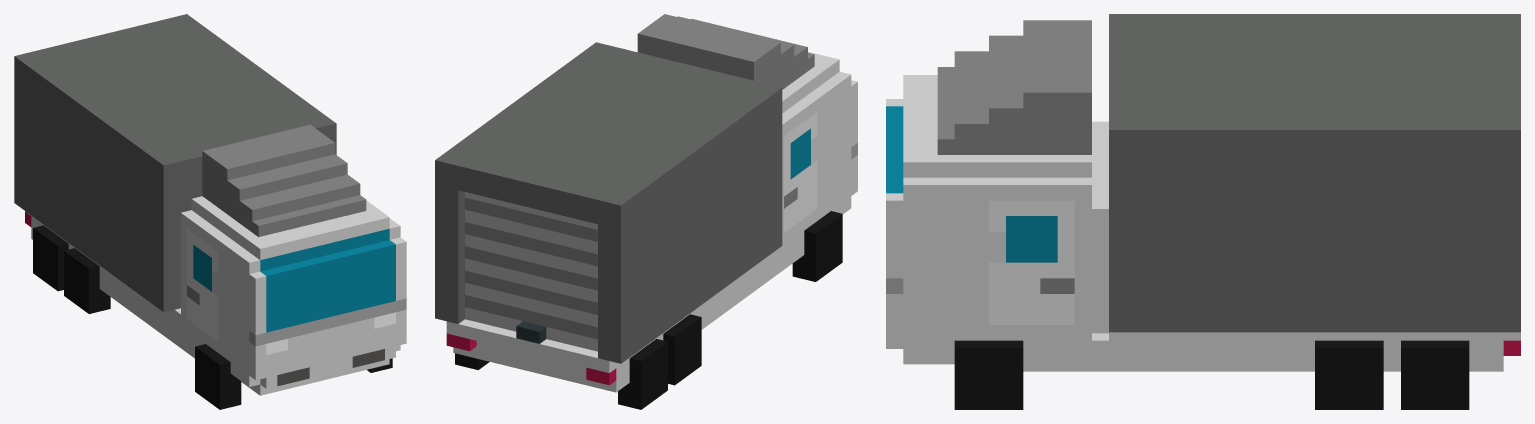
Rendered from truck2.obj.
3 renders of one model, left to right at view 1: azimuth 30°, elevation 25°; view 2: azimuth 150°, elevation 25°; view 3: azimuth 270°, elevation 25°, orthographic. The views are drawn at different scales.
Size of the model in its own units: 1.6 by 1.9 by 3.7.
Materials: 1 (1 with a texture image).
